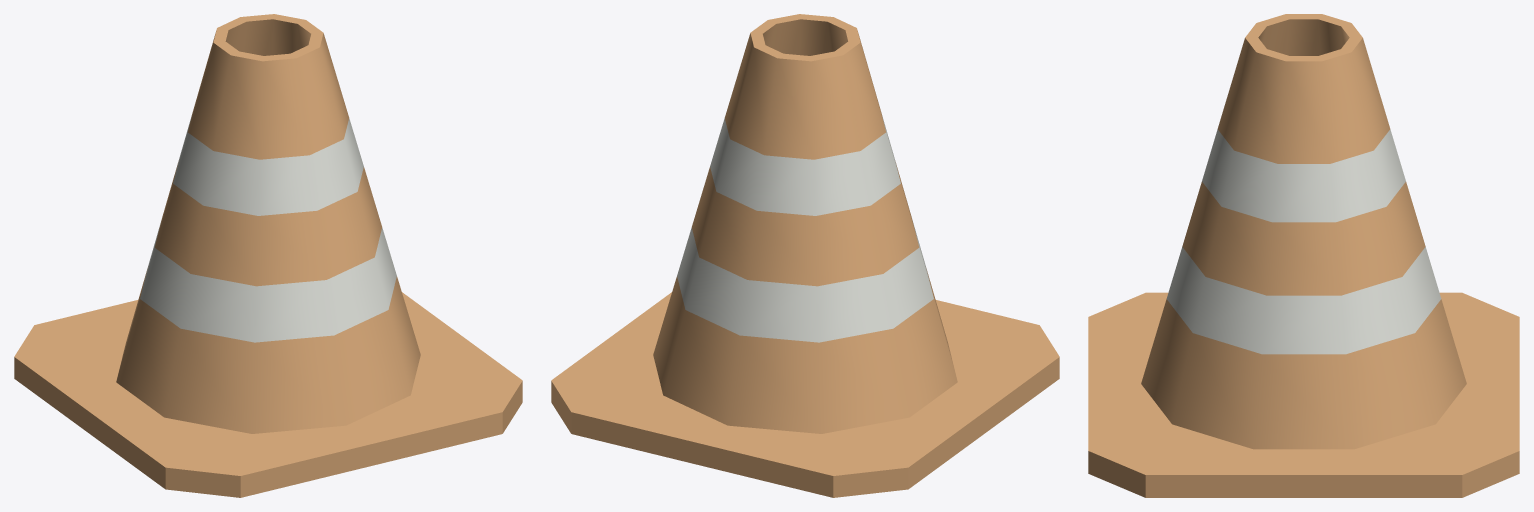
Rendered from TrafficCone.fbx.
3 renders of one model, left to right at view 1: azimuth 30°, elevation 25°; view 2: azimuth 150°, elevation 25°; view 3: azimuth 270°, elevation 25°, orthographic. The views are drawn at different scales.
Visible parts, largest first — view 1: TrafficCone.001; view 2: TrafficCone.001; view 3: TrafficCone.001.
Boxes of the visible parts, bbox=[...] form: TrafficCone.001: bbox=[14, 14, 522, 497]; TrafficCone.001: bbox=[551, 14, 1059, 497]; TrafficCone.001: bbox=[1088, 14, 1519, 497].
Size of the model in its own units: 0.6746 by 0.6367 by 0.6746.
